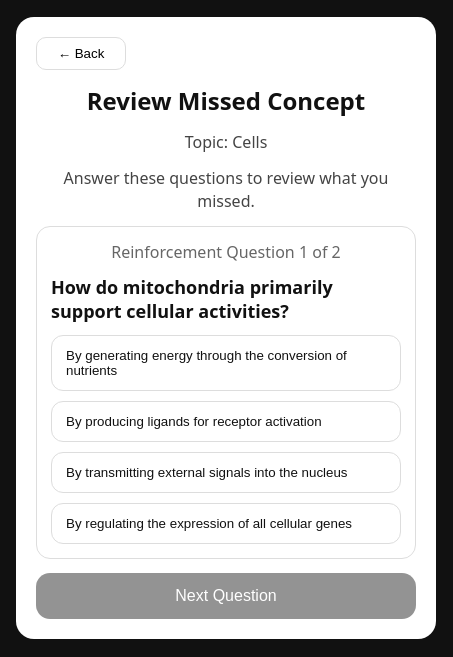
Scenario: ReinforcementScreen › keeps Next Question disabled until an answer is selected
Expected: the button "Next Question" is disabled, [36,573,416,619]
Click the button "By generating energy through the conversion of nutrients". click: (226, 363)
box: [51,335,401,391]
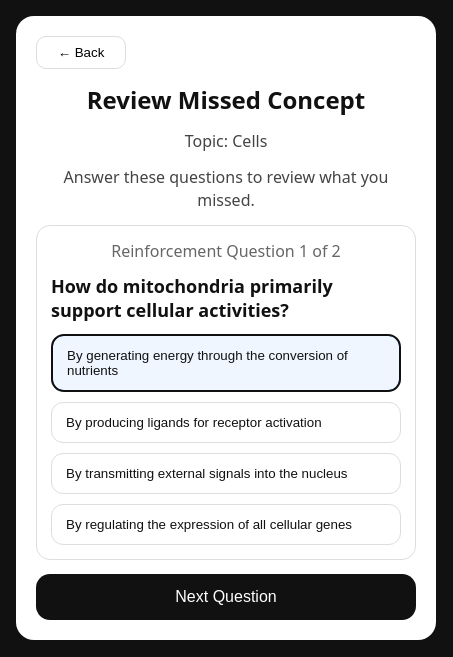
Now the button "Next Question" is enabled, box [36,574,416,620]
